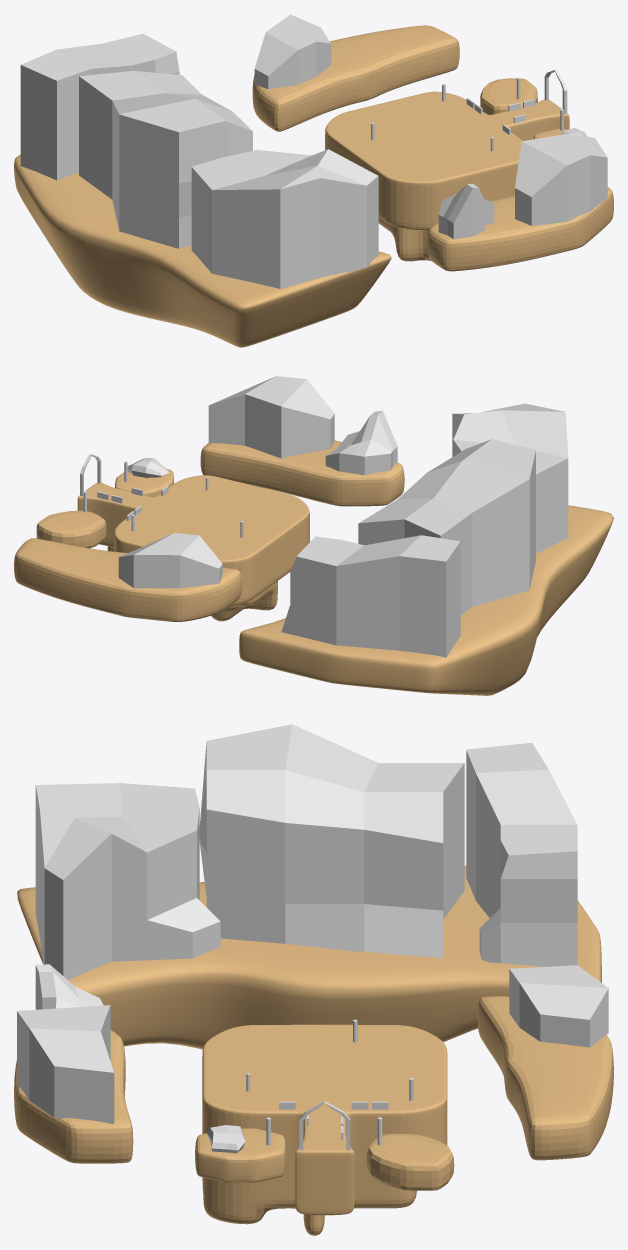
File: Sala1.fbx
3 renders of one model, top to bottom at view 1: azimuth 30°, elevation 25°; view 2: azimuth 150°, elevation 25°; view 3: azimuth 270°, elevation 25°, orthographic. The views are drawn at different scales.
Parts seen in each view (by area): view 1: Cube.004, Cube.001, Base 1-1, Cube, Cube.007, Cube.005, Cube.008, Cube.003; view 2: Cube.004, Cube.001, Cube, Base 1-1, Cube.007, Cube.005, Cube.008, Cube.003, Cube.002, Cube.006; view 3: Cube.004, Cube.001, Base 1-1, Cube, Cube.007, Cube.005, Cube.003, Cube.002, Cube.008, Cube.006.
Boxes of the visible parts, left/top/right/bottom form: Cube.004: left=20, top=33, right=378, bottom=288; Cube.001: left=14, top=154, right=391, bottom=347; Base 1-1: left=325, top=91, right=569, bottom=261; Cube: left=252, top=25, right=613, bottom=271; Cube.007: left=515, top=134, right=607, bottom=226; Cube.005: left=254, top=14, right=331, bottom=89; Cube.008: left=438, top=183, right=494, bottom=239; Cube.003: left=480, top=78, right=537, bottom=114; Cube.004: left=281, top=403, right=568, bottom=657; Cube.001: left=239, top=505, right=613, bottom=695; Cube: left=14, top=440, right=404, bottom=621; Base 1-1: left=77, top=475, right=309, bottom=621; Cube.007: left=208, top=376, right=334, bottom=458; Cube.005: left=118, top=533, right=222, bottom=588; Cube.008: left=325, top=410, right=397, bottom=475; Cube.003: left=36, top=510, right=106, bottom=548; Cube.002: left=115, top=469, right=173, bottom=497; Cube.006: left=127, top=457, right=169, bottom=477; Cube.004: left=35, top=724, right=577, bottom=979; Cube.001: left=17, top=865, right=601, bottom=1049; Base 1-1: left=202, top=1024, right=447, bottom=1235; Cube: left=14, top=996, right=613, bottom=1163; Cube.007: left=17, top=1005, right=114, bottom=1124; Cube.005: left=509, top=965, right=608, bottom=1047; Cube.003: left=366, top=1134, right=454, bottom=1190; Cube.002: left=195, top=1128, right=286, bottom=1182; Cube.008: left=35, top=964, right=103, bottom=1009; Cube.006: left=206, top=1125, right=245, bottom=1153.
Size of the model in its own units: 23330 by 28637 by 11752.
